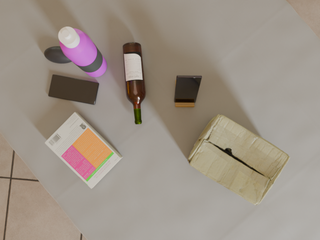book: (45, 112, 122, 189)
bottle: (58, 27, 107, 77), (123, 42, 146, 124)
box: (188, 114, 290, 205)
mouse: (44, 46, 72, 63)
phone: (48, 75, 99, 105), (174, 76, 202, 102)
